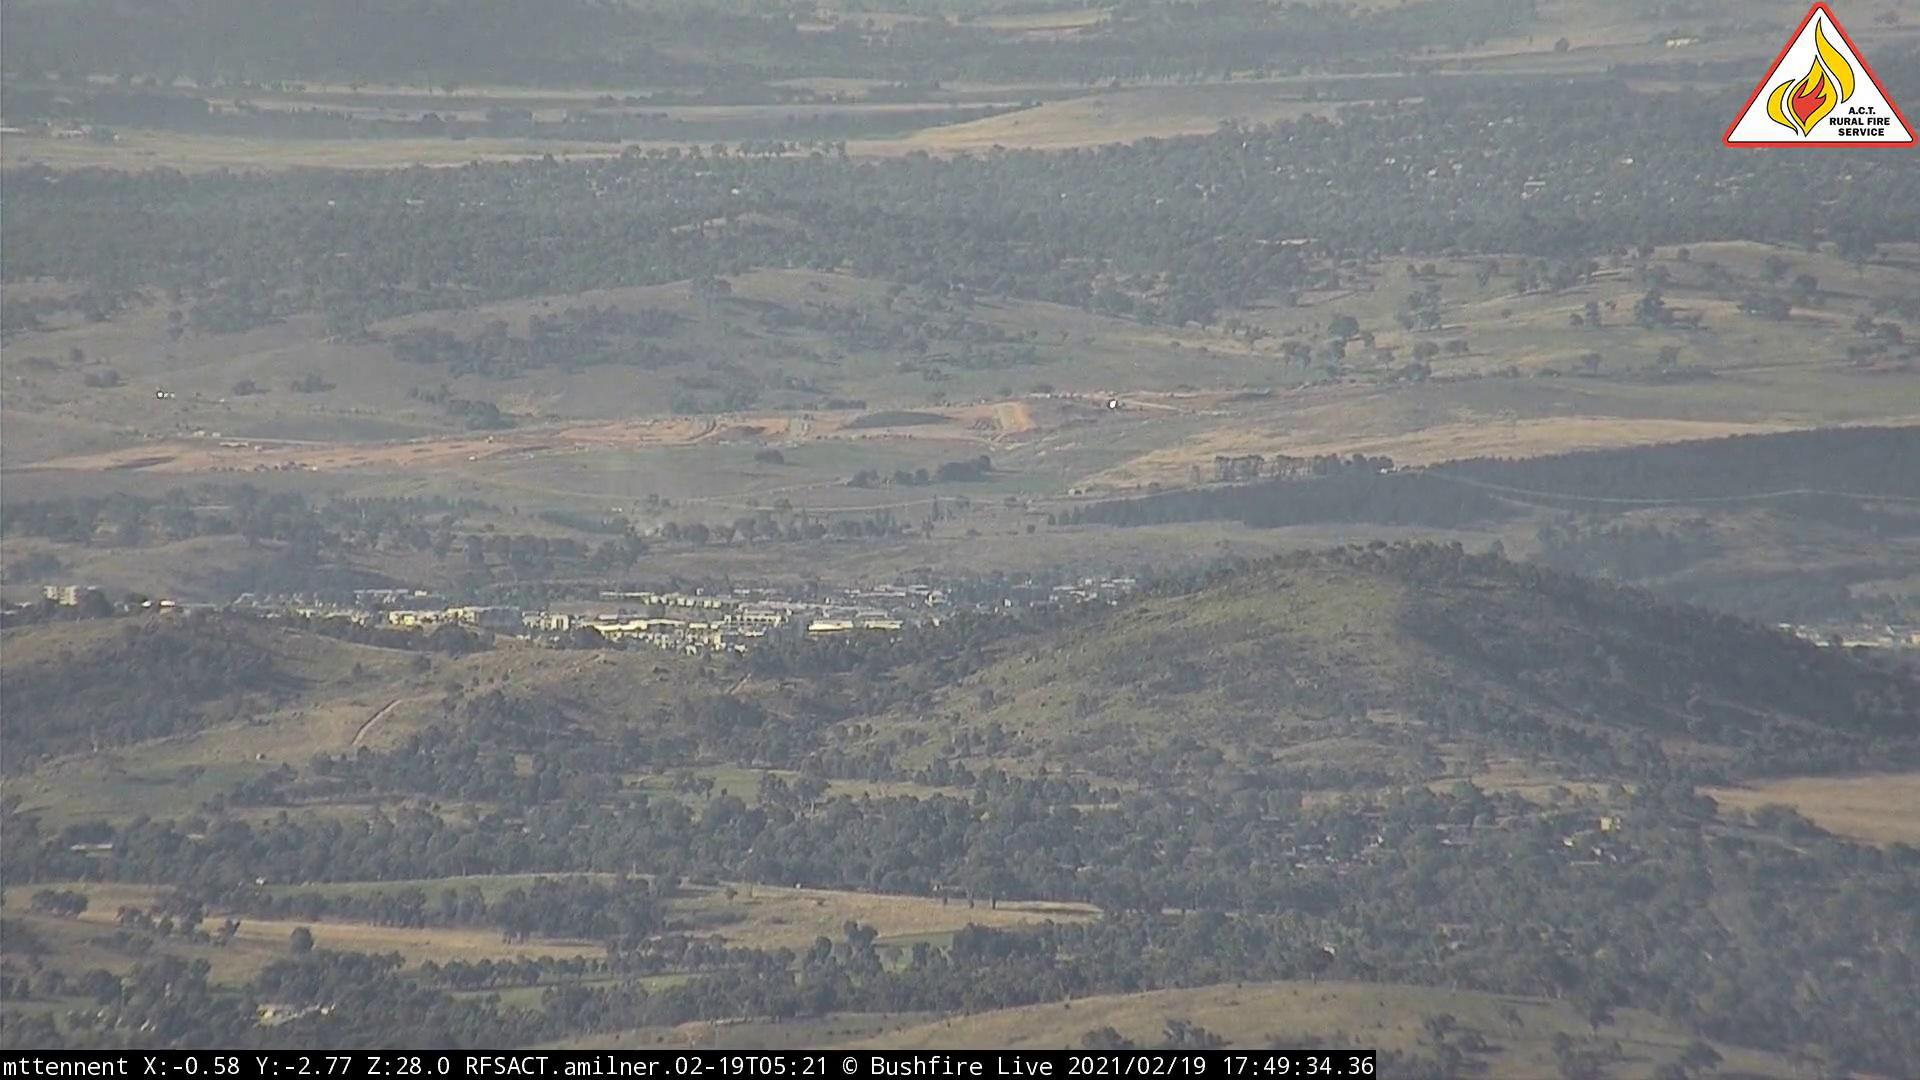instance_salient_object: (599, 496, 686, 545)
